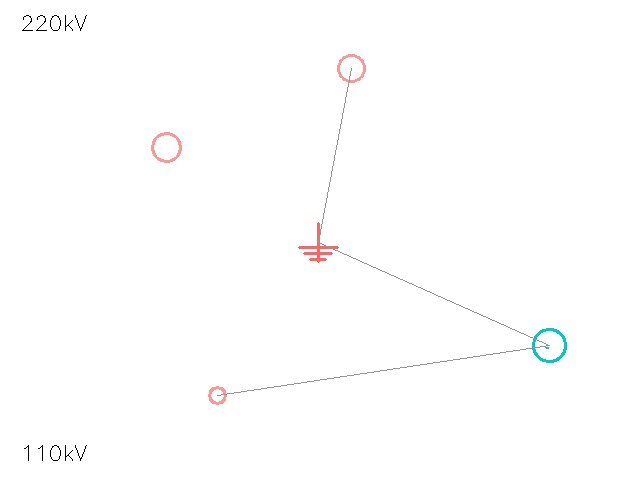current_transformer: (200, 378, 234, 412)
feeder_terminal: (138, 119, 194, 175)
generator: (533, 329, 565, 361)
ground: (299, 223, 337, 261)
reactor: (324, 41, 378, 95)
